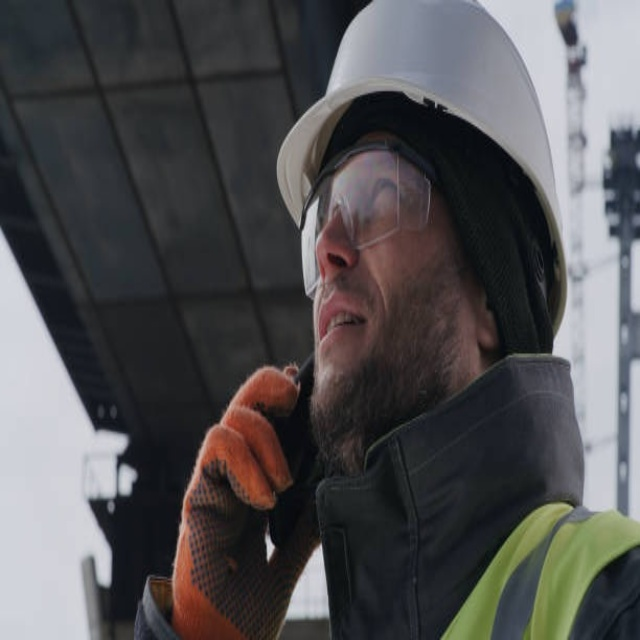Gafas: (300, 138, 440, 300)
Guantes: (169, 360, 323, 640)
Sin_mascara: (312, 292, 379, 385)
